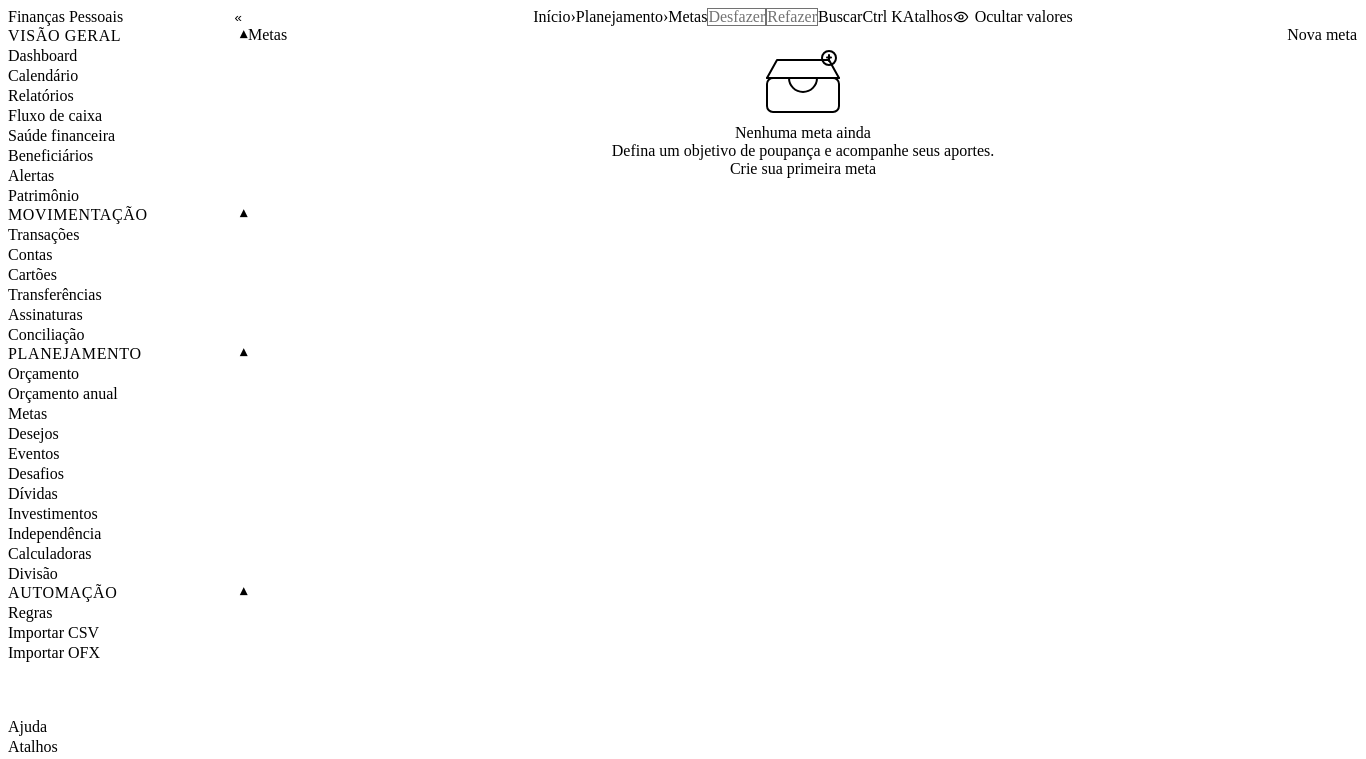
Test case: metas: tela › critério 2: prazo no passado mostra erro junto ao campo
Click the button "Nova meta" at (1322, 35), box [1286, 26, 1358, 44]
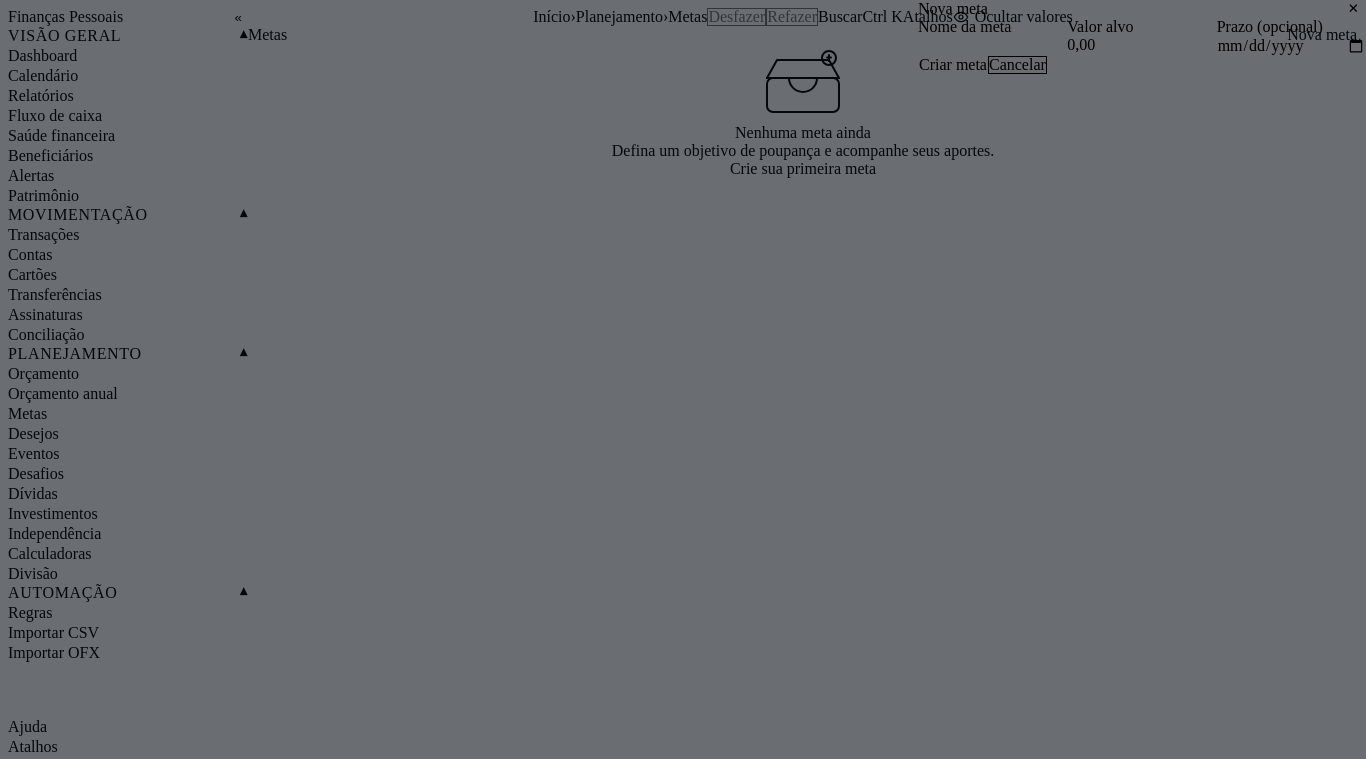
Type "Velha" into the field labelled "Nome da meta" at (993, 45), box [918, 36, 1067, 54]
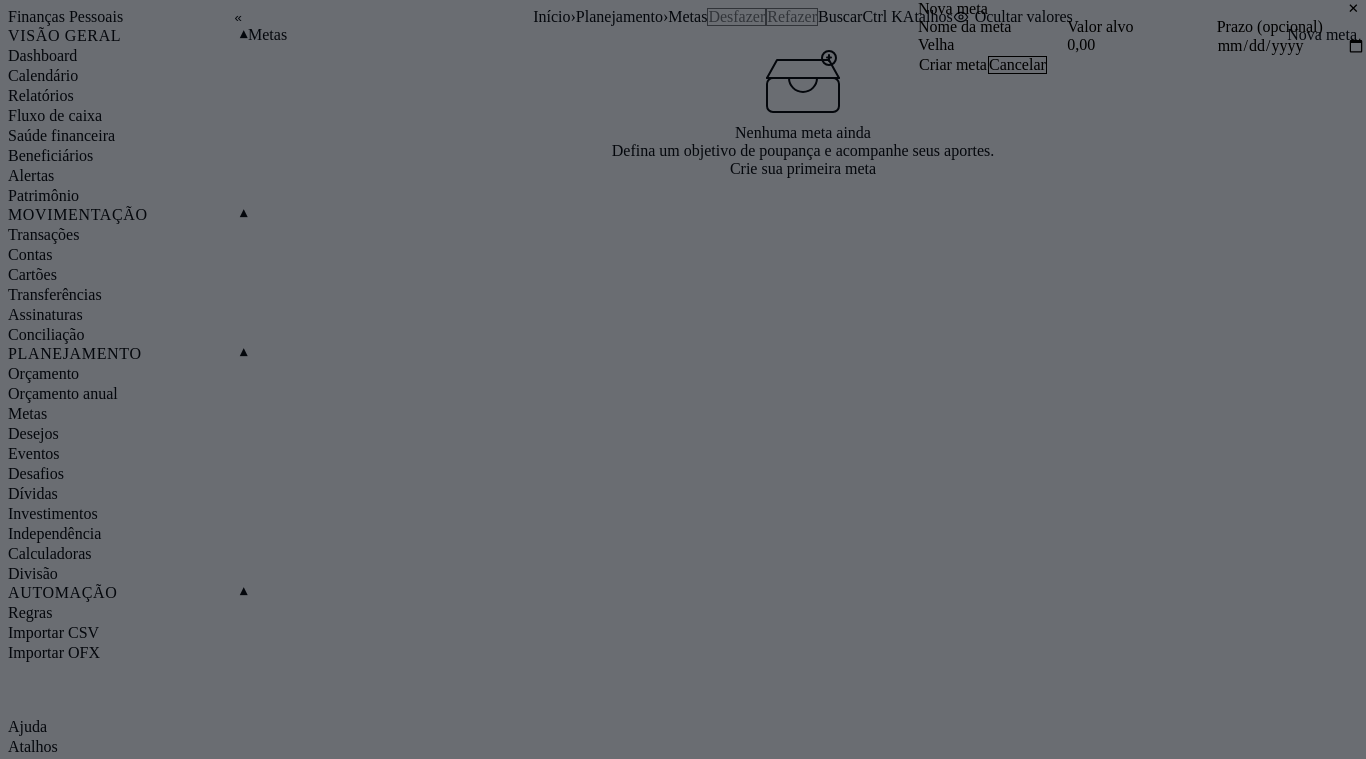
Type "100" into the field labelled "Valor alvo" at (1142, 45), box [1067, 36, 1217, 54]
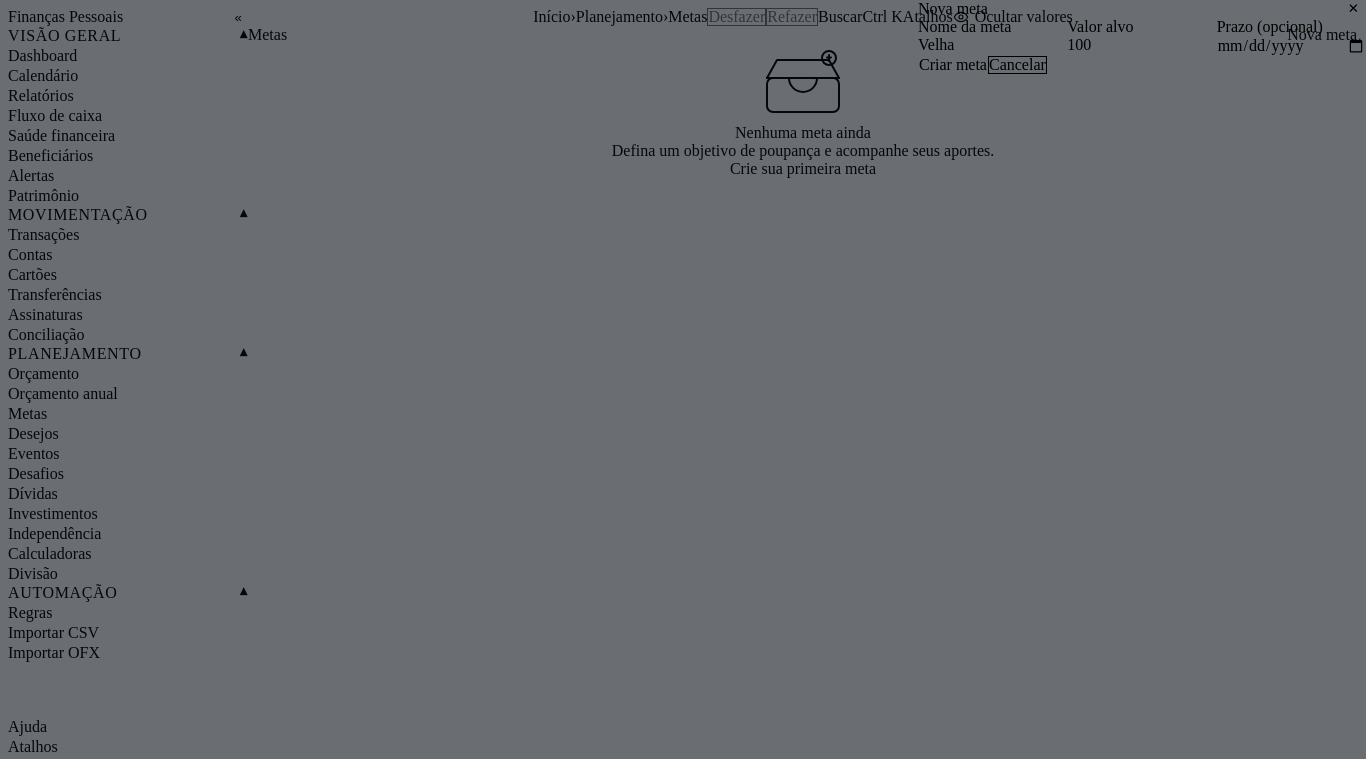
Type "2020-01-01" into the date field labelled "Prazo (opcional)" at (1291, 46), box [1217, 36, 1365, 56]
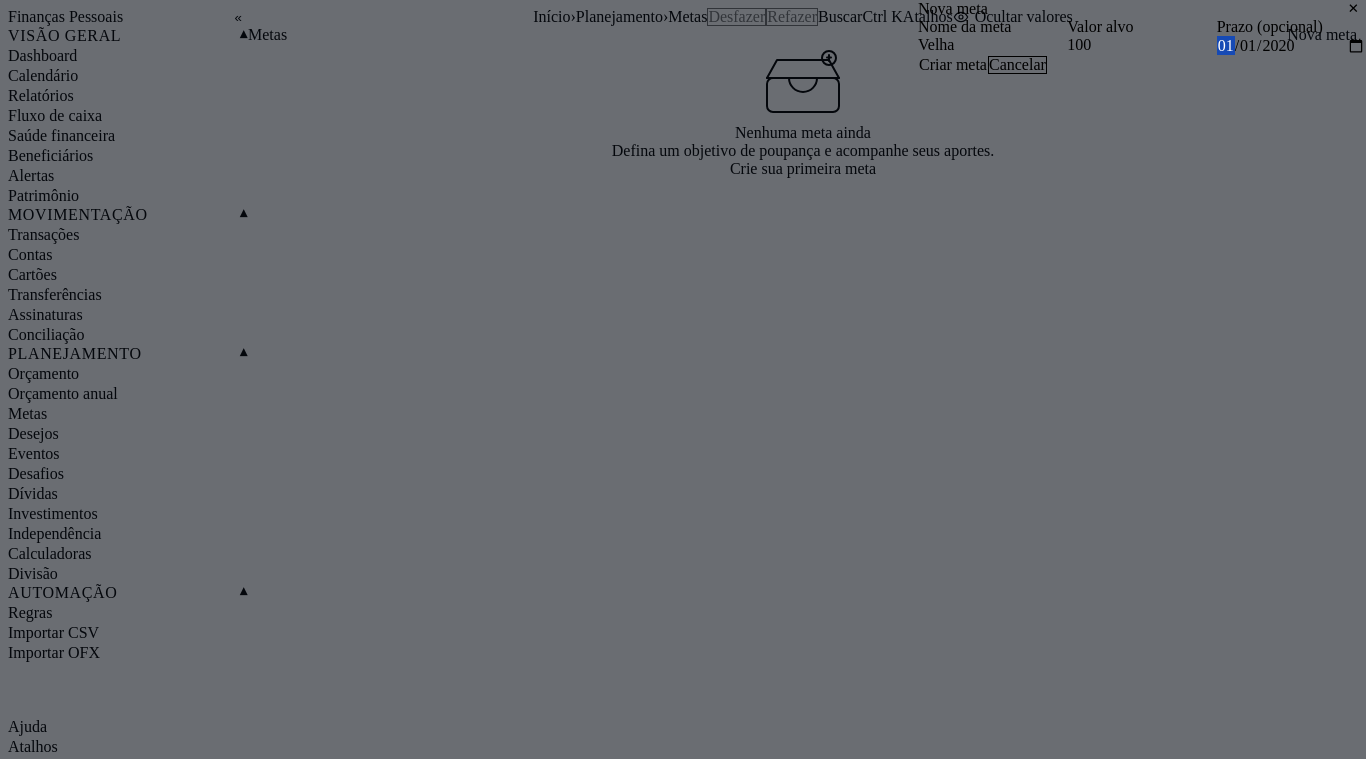
Click the button "Criar meta" at (953, 65), box [918, 56, 988, 74]
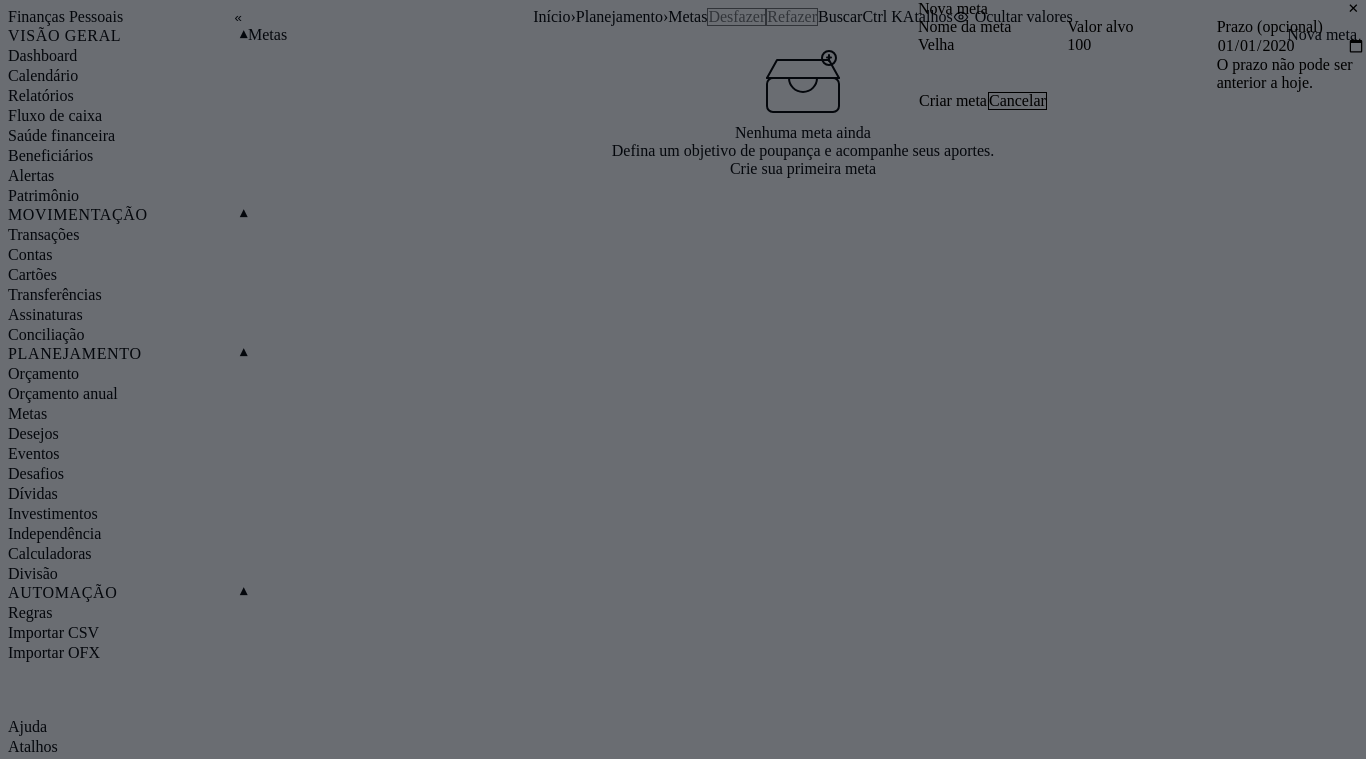
Check: the message shows "anterior a hoje", box [1217, 56, 1353, 91]
